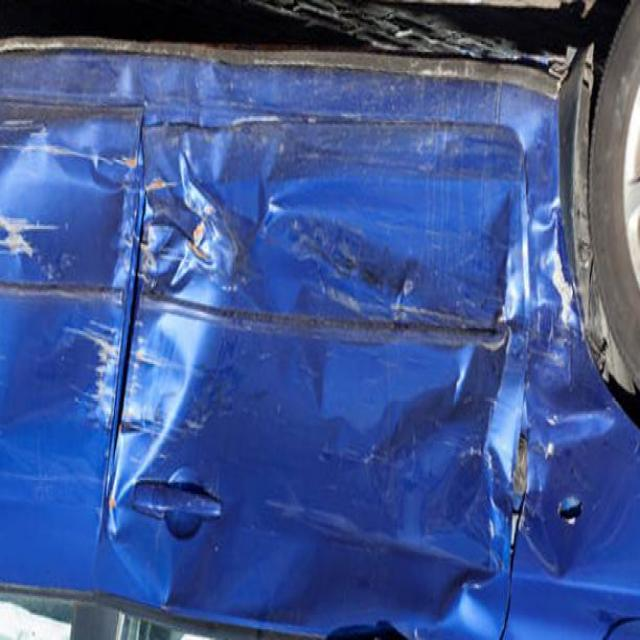dent: (434, 141, 604, 628), (74, 142, 254, 570)
